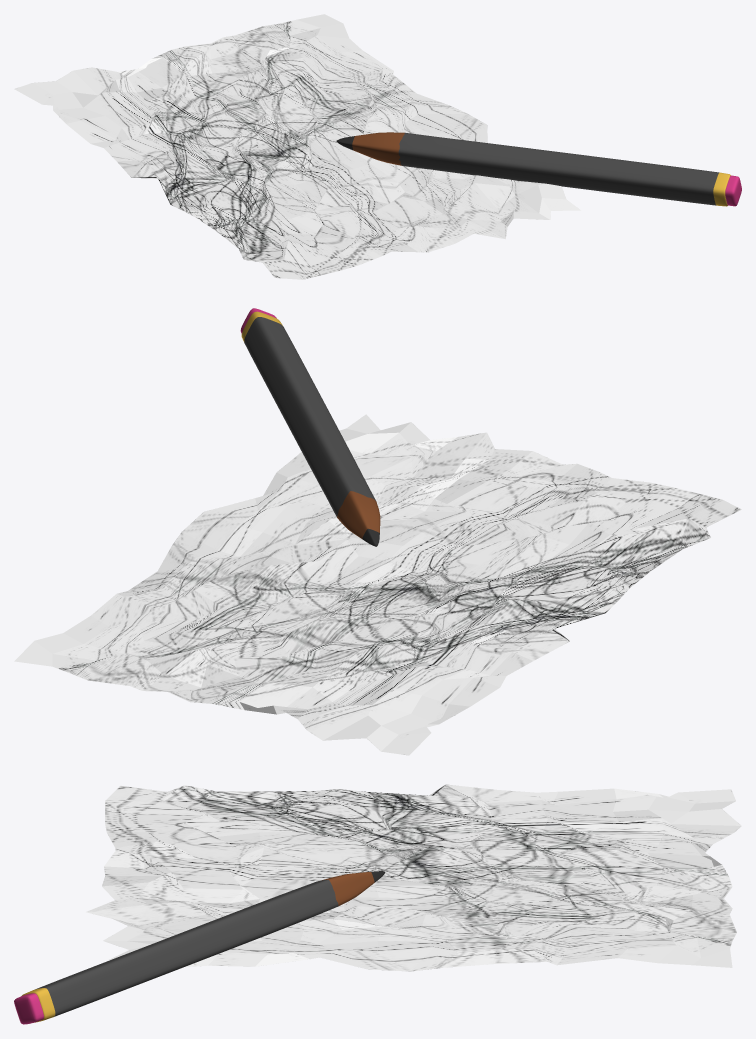
The model's file is school_pencil_writing_animation.glb.
3 renders of one model, top to bottom at view 1: azimuth 30°, elevation 25°; view 2: azimuth 150°, elevation 25°; view 3: azimuth 270°, elevation 25°, orthographic. The views are drawn at different scales.
Parts seen in each view (by area): view 1: Plane, Cube_Cube.001; view 2: Plane, Cube_Cube.001; view 3: Plane, Cube_Cube.001.
Part boxes in pixels (box(x1,y1,x2,y2)): Plane: box(14, 14, 580, 279); Cube_Cube.001: box(336, 132, 741, 206); Plane: box(14, 414, 741, 755); Cube_Cube.001: box(240, 308, 380, 546); Plane: box(86, 784, 741, 971); Cube_Cube.001: box(14, 871, 384, 1024).
Bounding box in the file's own units: 11.24 × 0.8269 × 13.95.
Materials: 6 (1 with a texture image).
